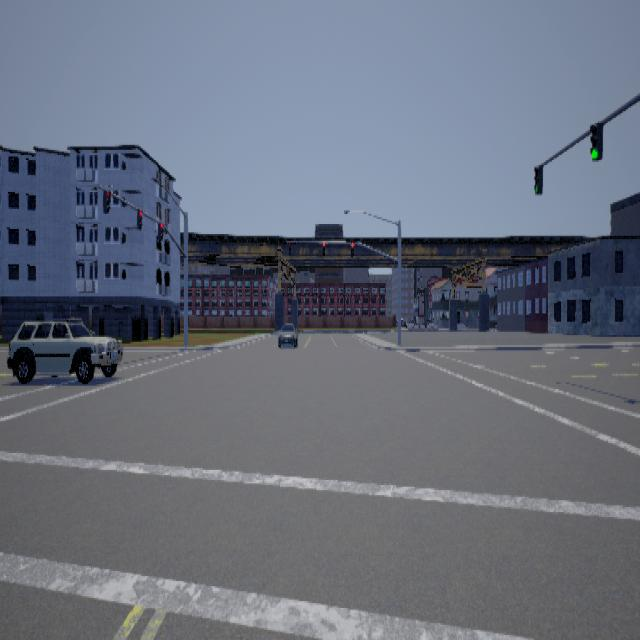green_light: (589, 120, 602, 160), (533, 163, 542, 194)
red_light: (102, 189, 110, 212), (136, 207, 142, 229), (157, 221, 163, 239), (351, 242, 354, 256), (322, 241, 324, 255), (288, 241, 290, 254)
vehicle: (6, 315, 122, 382), (277, 322, 297, 347)
